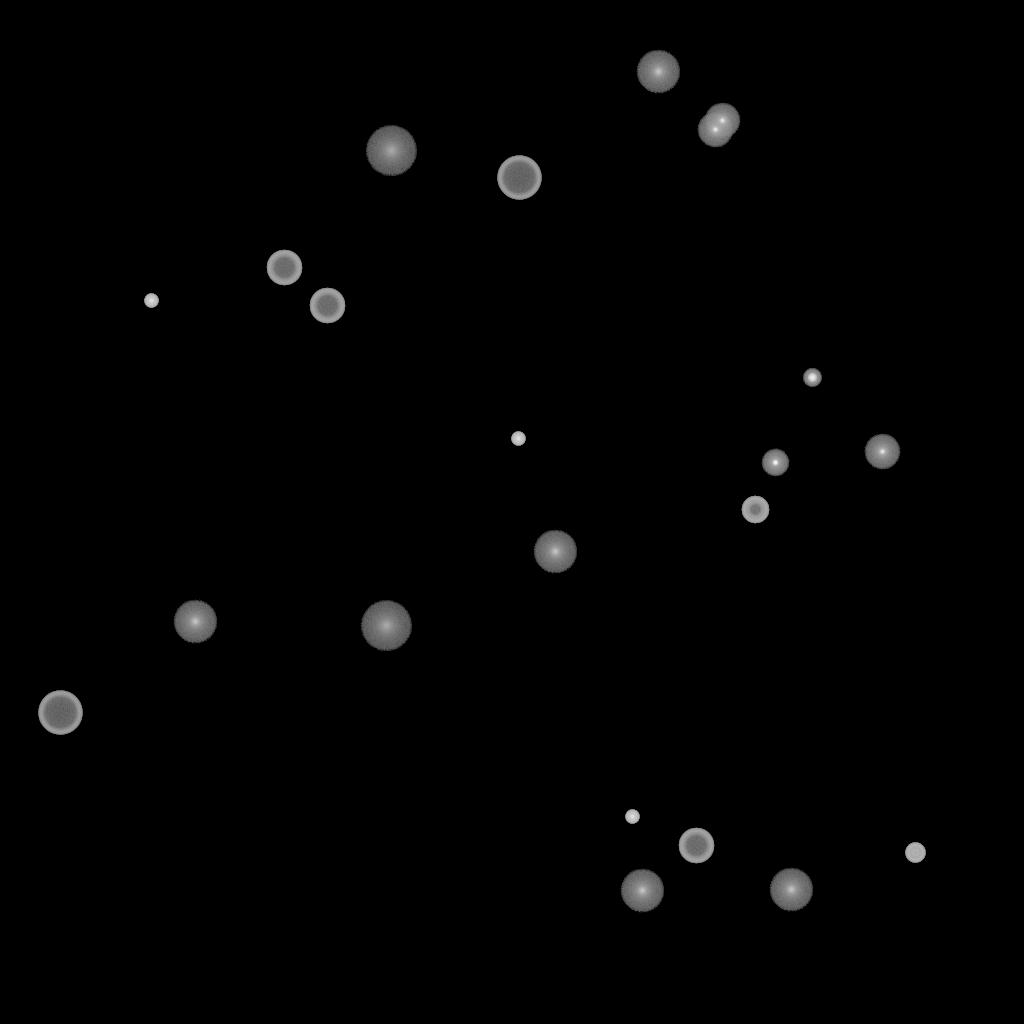depth:-10: (761, 449, 789, 477)
depth:-20: (803, 369, 821, 387)
depth:-30: (625, 810, 639, 824), (511, 432, 525, 446), (144, 294, 158, 308)
depth:-40: (905, 843, 925, 863)
depth:-50: (741, 496, 769, 524)
depth:-60: (678, 828, 714, 864), (266, 250, 302, 286), (309, 288, 345, 324)
depth:-70: (38, 691, 82, 735), (497, 156, 541, 200)
depth:0: (864, 434, 900, 470), (697, 112, 733, 148), (704, 103, 740, 139)
depth:10: (620, 869, 664, 913), (173, 600, 217, 644), (769, 868, 813, 912), (533, 530, 577, 574), (636, 50, 680, 94)
depth:20: (360, 601, 412, 651), (365, 126, 417, 176)
